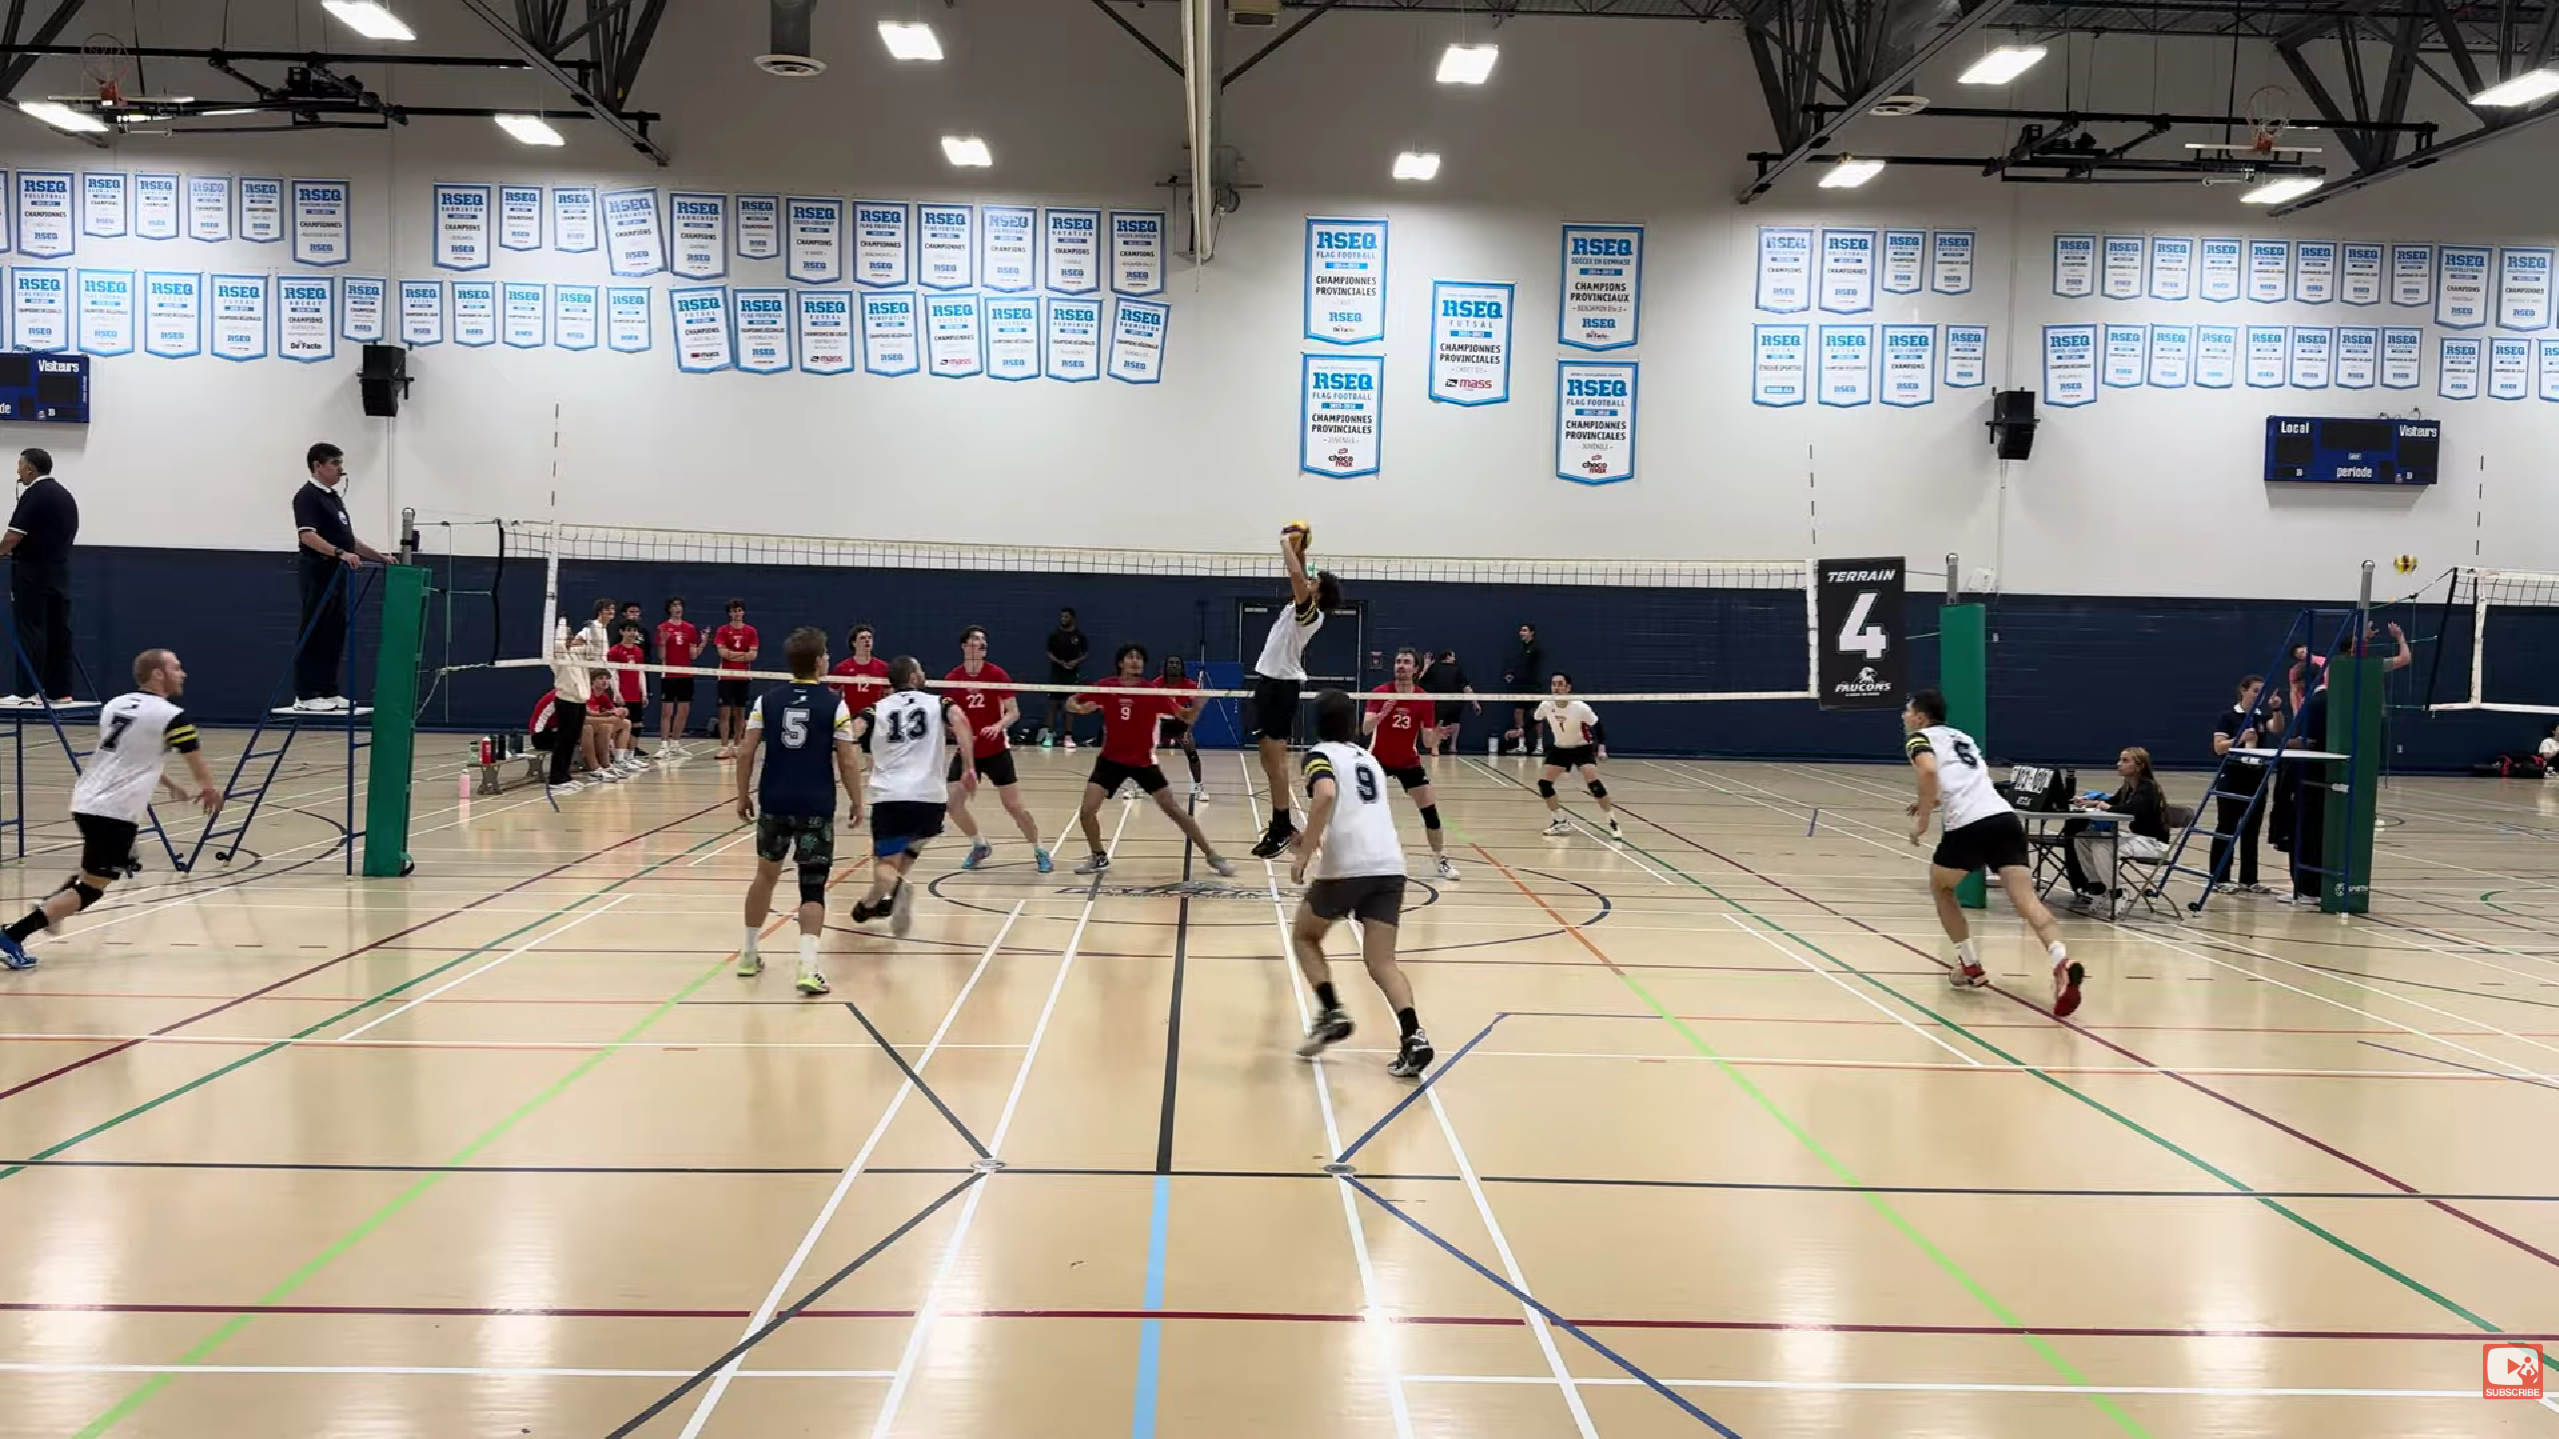Ball: (1279, 520, 1313, 552), (1295, 515, 1297, 520)
